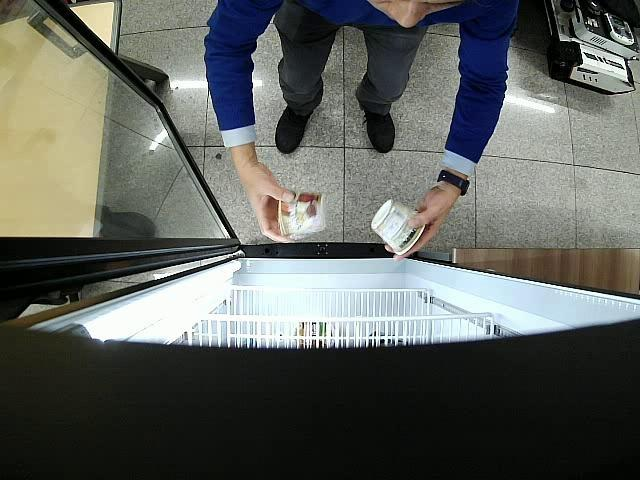04_chapagetti_S: (372, 200, 426, 252), (278, 193, 327, 238)
